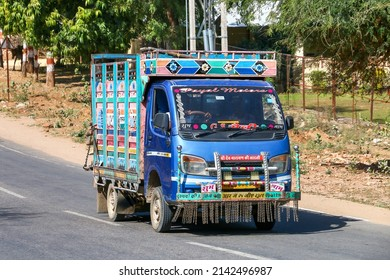truck: (89, 47, 301, 233)
